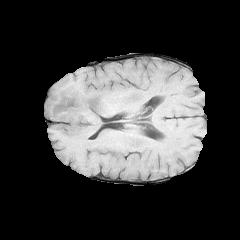glioma: (45, 87, 109, 135)
